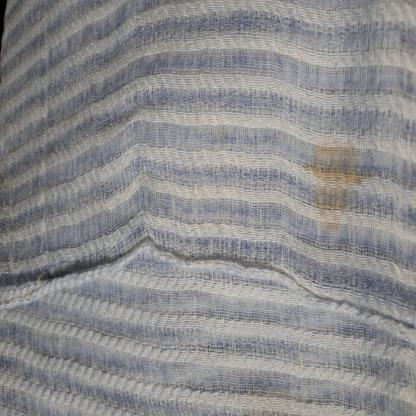spot: (299, 91, 364, 246)
